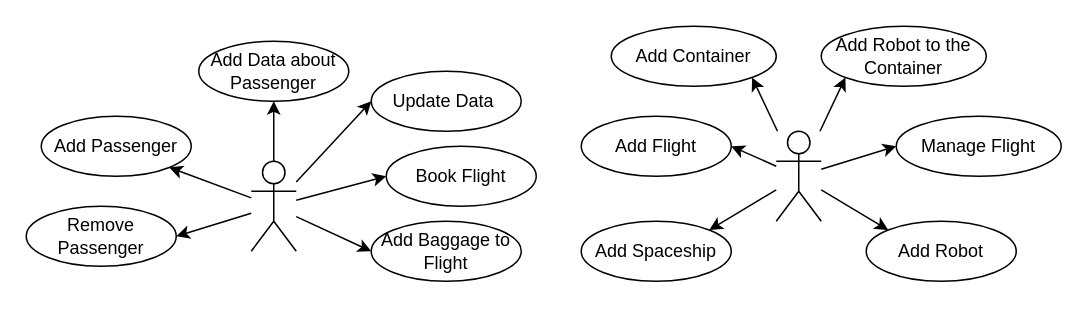
This 1088x309 diagram has some shape labels left out. The shapes that lost their labels are listed below. From the top down, each one's centre as x and y in pixels, then its label:
the point at 798,175: Admin
the point at 273,205: Passenger
